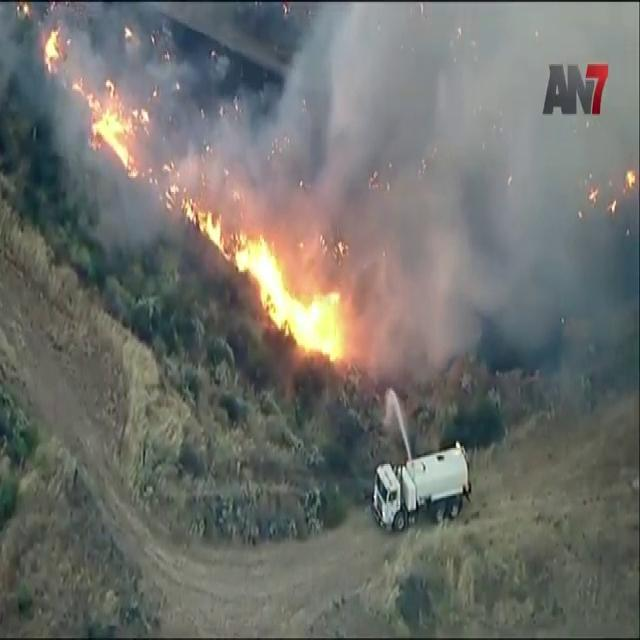Fire: (188, 201, 347, 354), (87, 98, 143, 174), (44, 28, 63, 72)
Smoke: (353, 4, 540, 362)
